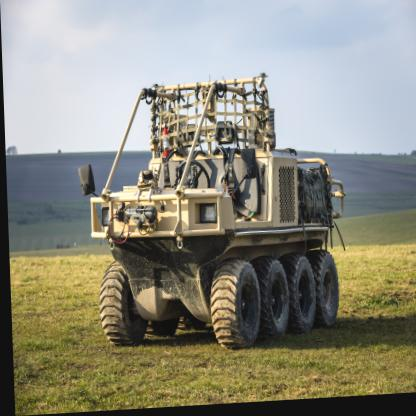UGV: (85, 150, 348, 359)
